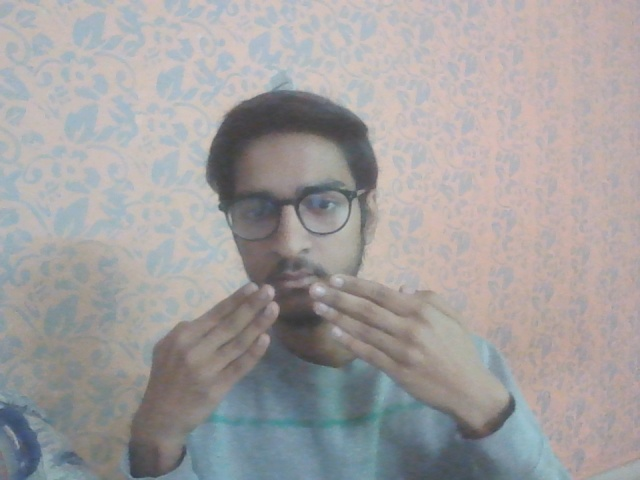ThankYou: (130, 275, 496, 450)
